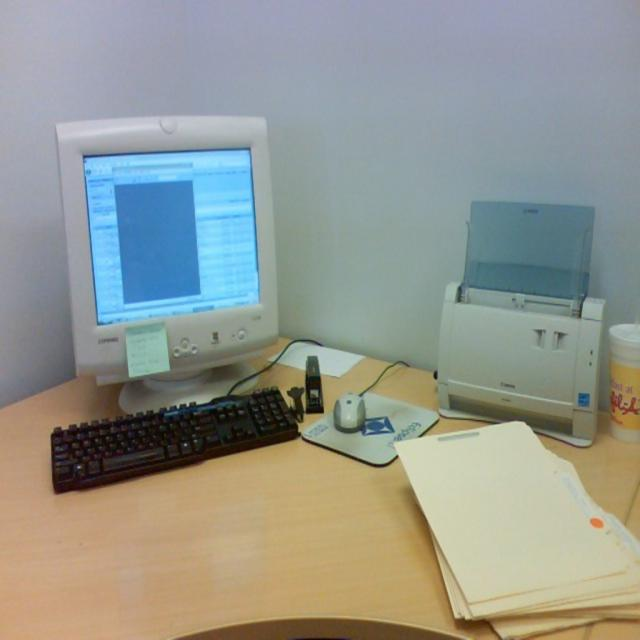printer: (433, 182, 616, 439)
